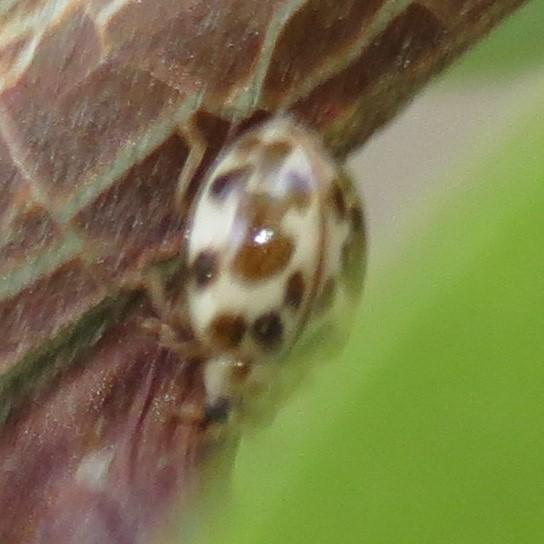ladybug: (141, 110, 372, 448)
